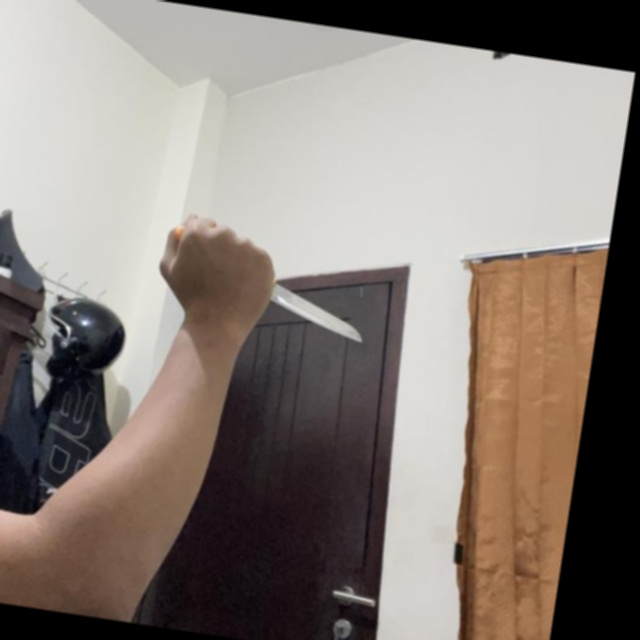Sharp-Object: (263, 276, 371, 344)
